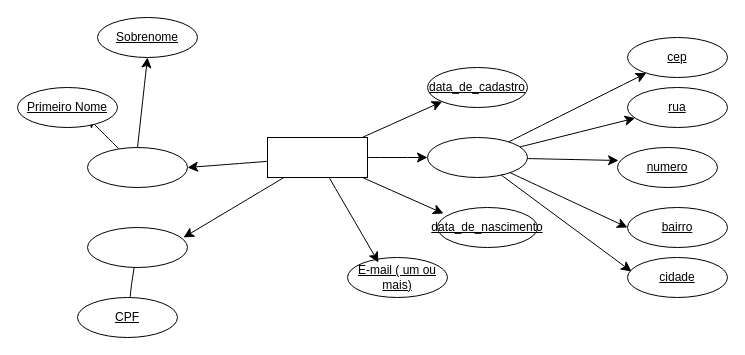
Image size: 745x355. Some labels were removed from this diagram. The shapes that lost their labels are listed below. From the top down, each one's centre as x and y in pixels, then its label:
point 137,167: Nome Completo
point 317,157: Loja
point 477,157: endereço de entrega
point 137,247: Cliente
